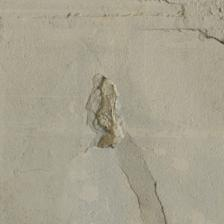Crack: (80, 70, 130, 154), (121, 162, 169, 223), (143, 24, 223, 46)
